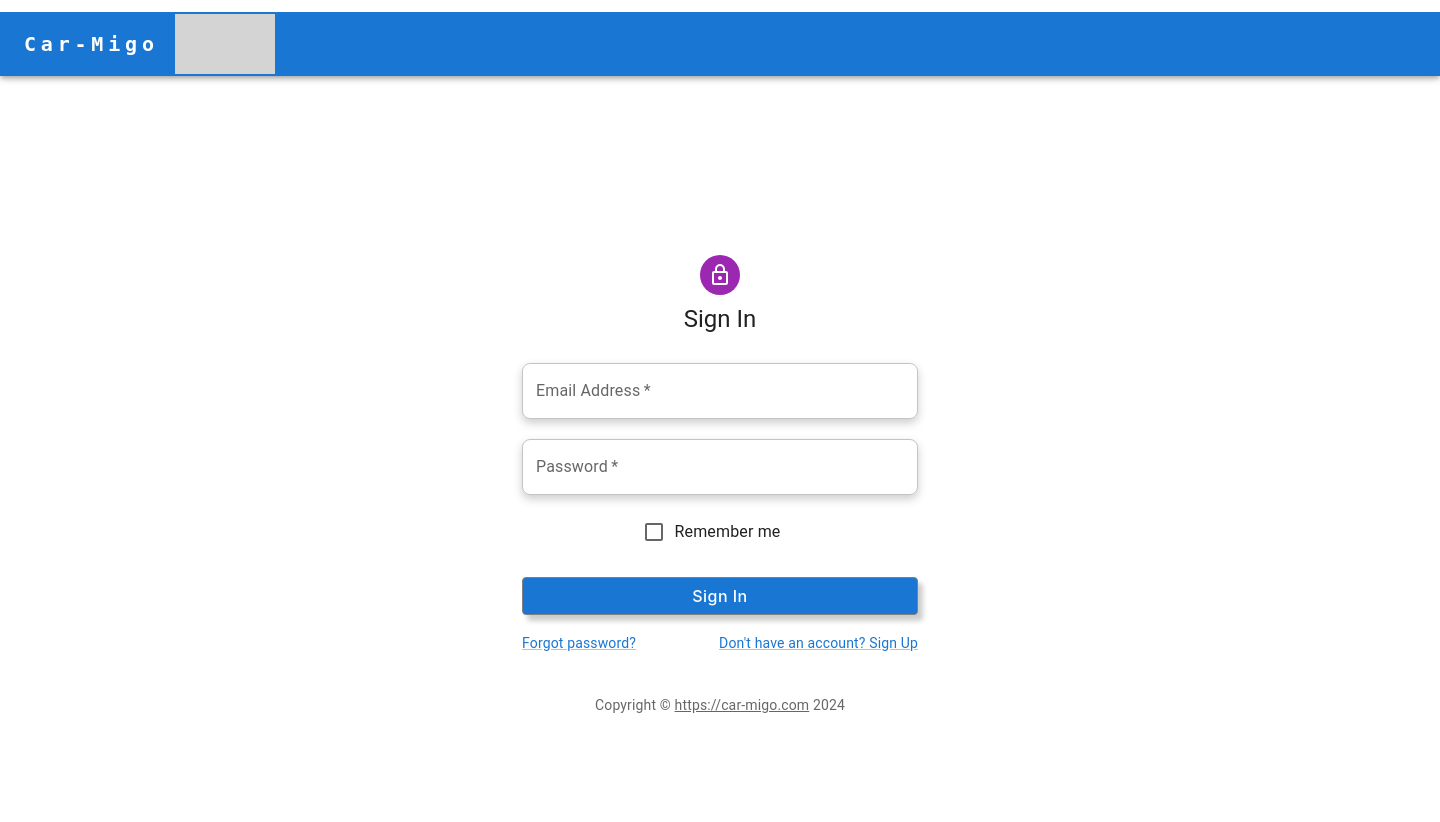
it: renders AlertPopUp component › button clicked with invalid data returns 500 Internal Server Error
Expected: the password field with test id "sign-in-with-password-input" is shown, [522,439,918,495]
Expected: the button with test id "submit-button" is shown, [522,577,918,615]
Type "boo@example.com" into the field with test id "sign-in-with-email-input" at (720, 391), box [522,363,918,419]
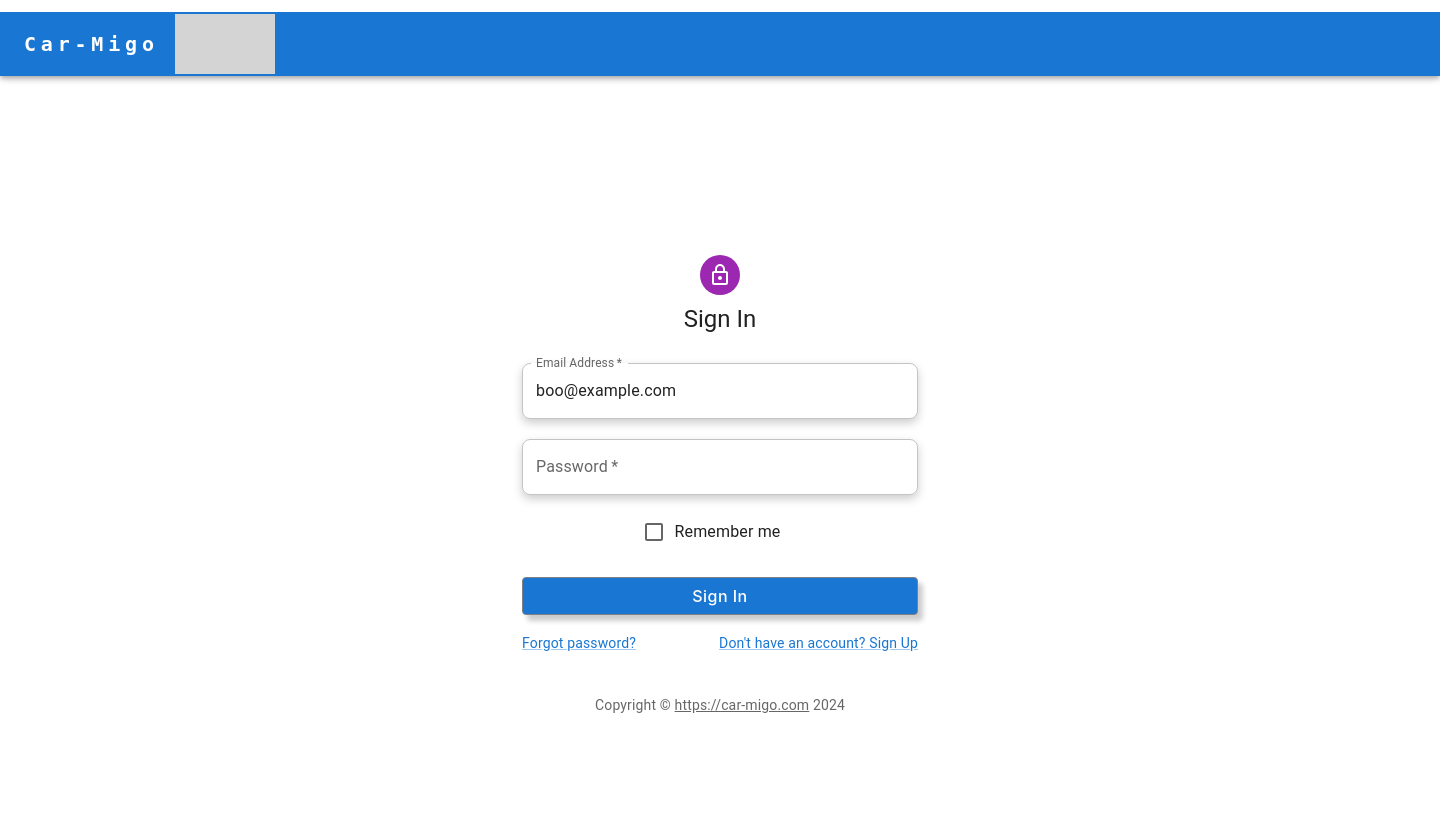
Type "Pass1234!" into the password field with test id "sign-in-with-password-input" at (720, 467), box [522,439,918,495]
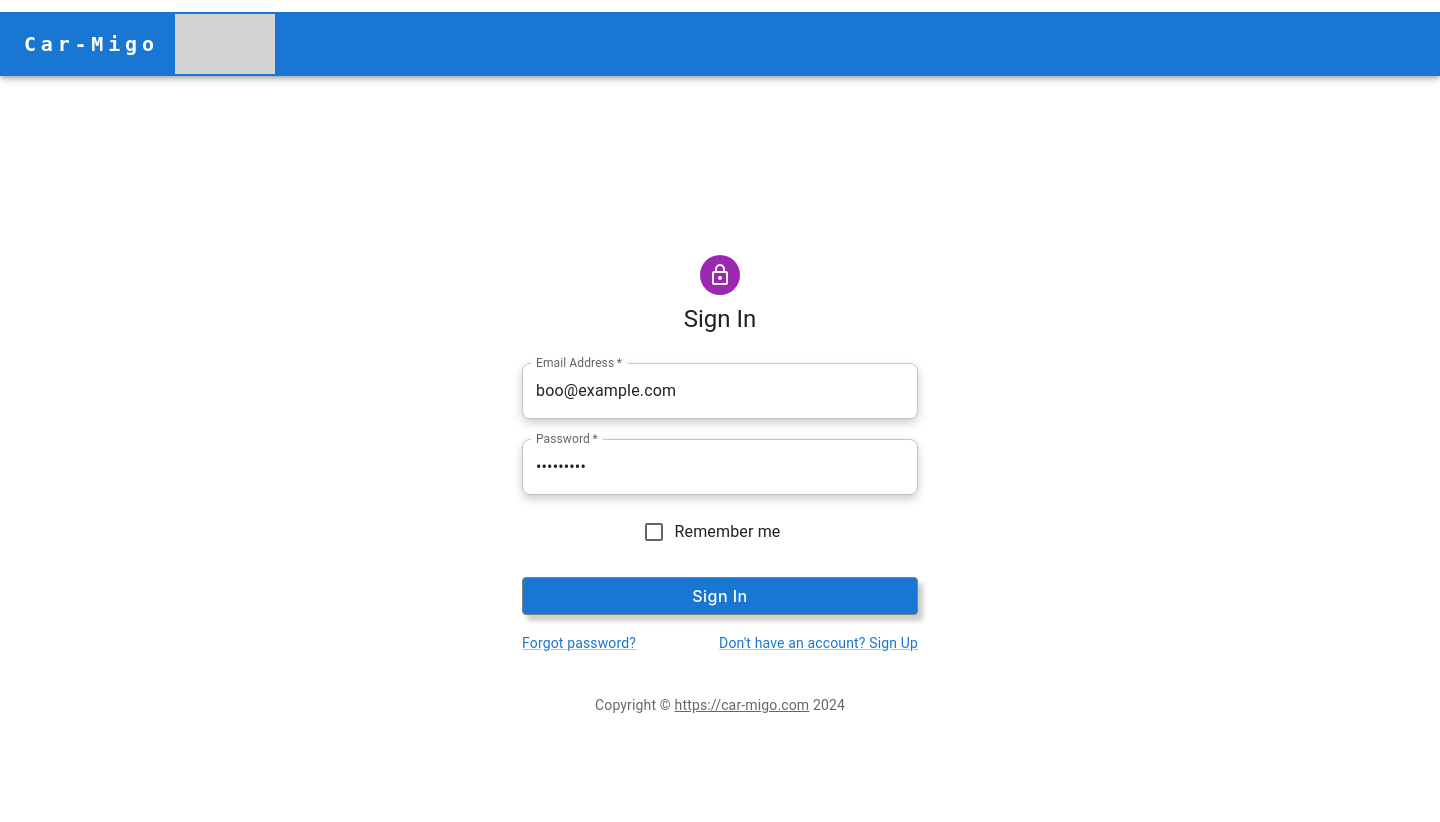
Click the button with test id "submit-button" at (720, 596), box [522,577,918,615]
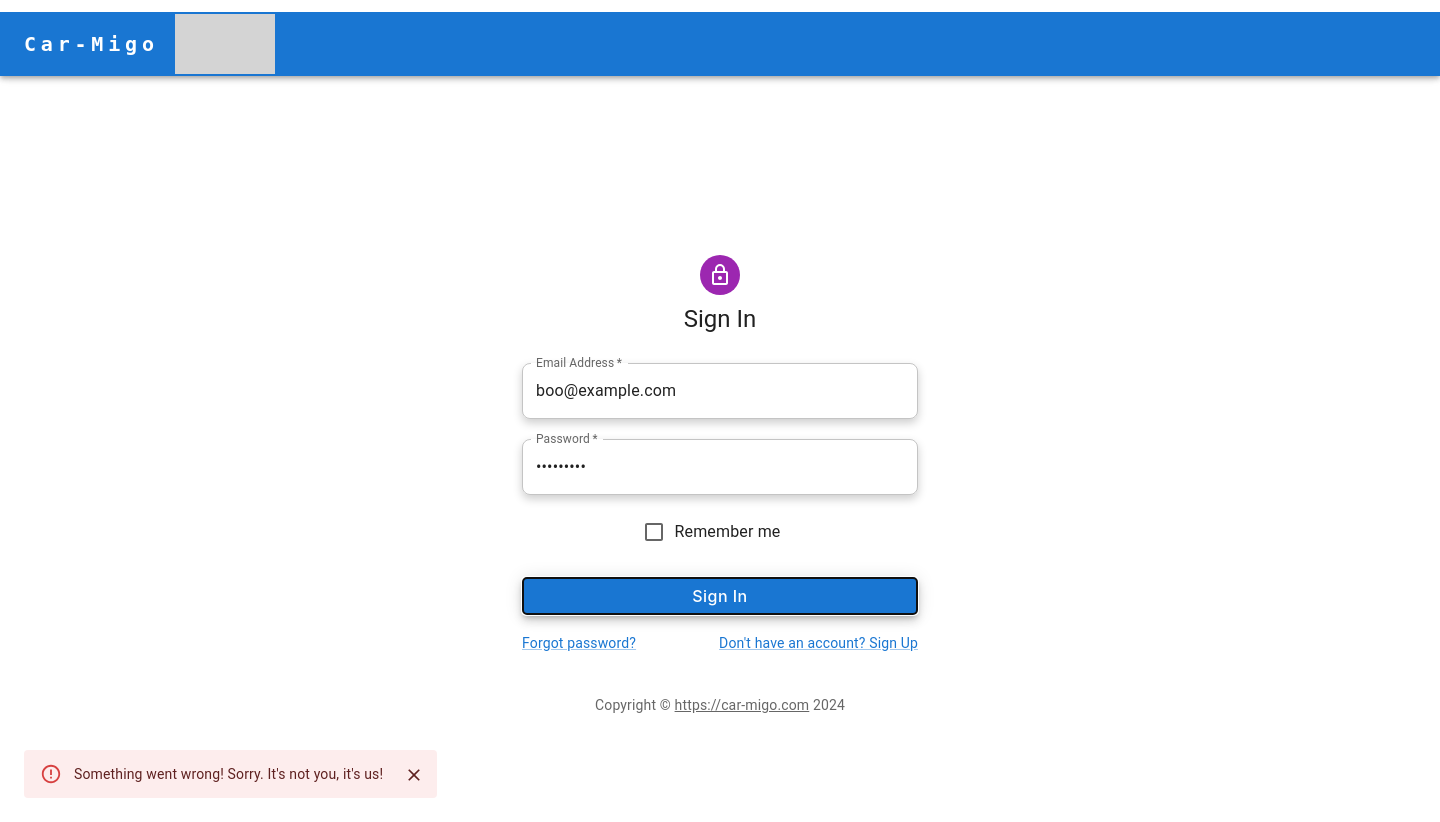
Result: the element with test id "alert-pop-up" is shown at [24,750,437,798]
Result: the text "Something went wrong! Sorry. It's not you, it's us!" is shown at [74,766,383,782]
Click the button with test id "CloseIcon" at (414, 775), box [399,760,429,790]
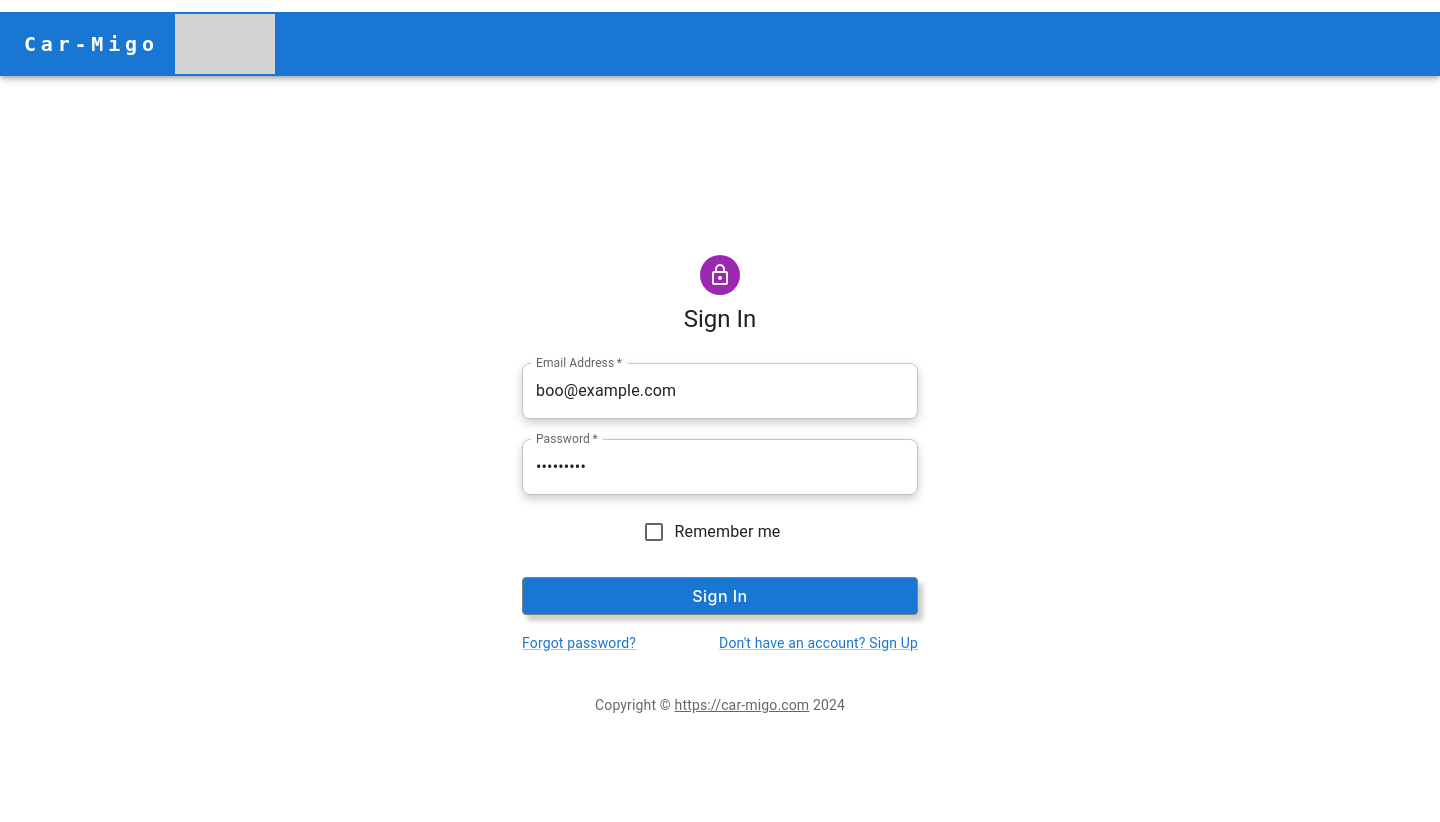
Result: the element with test id "alert-pop-up" is gone
